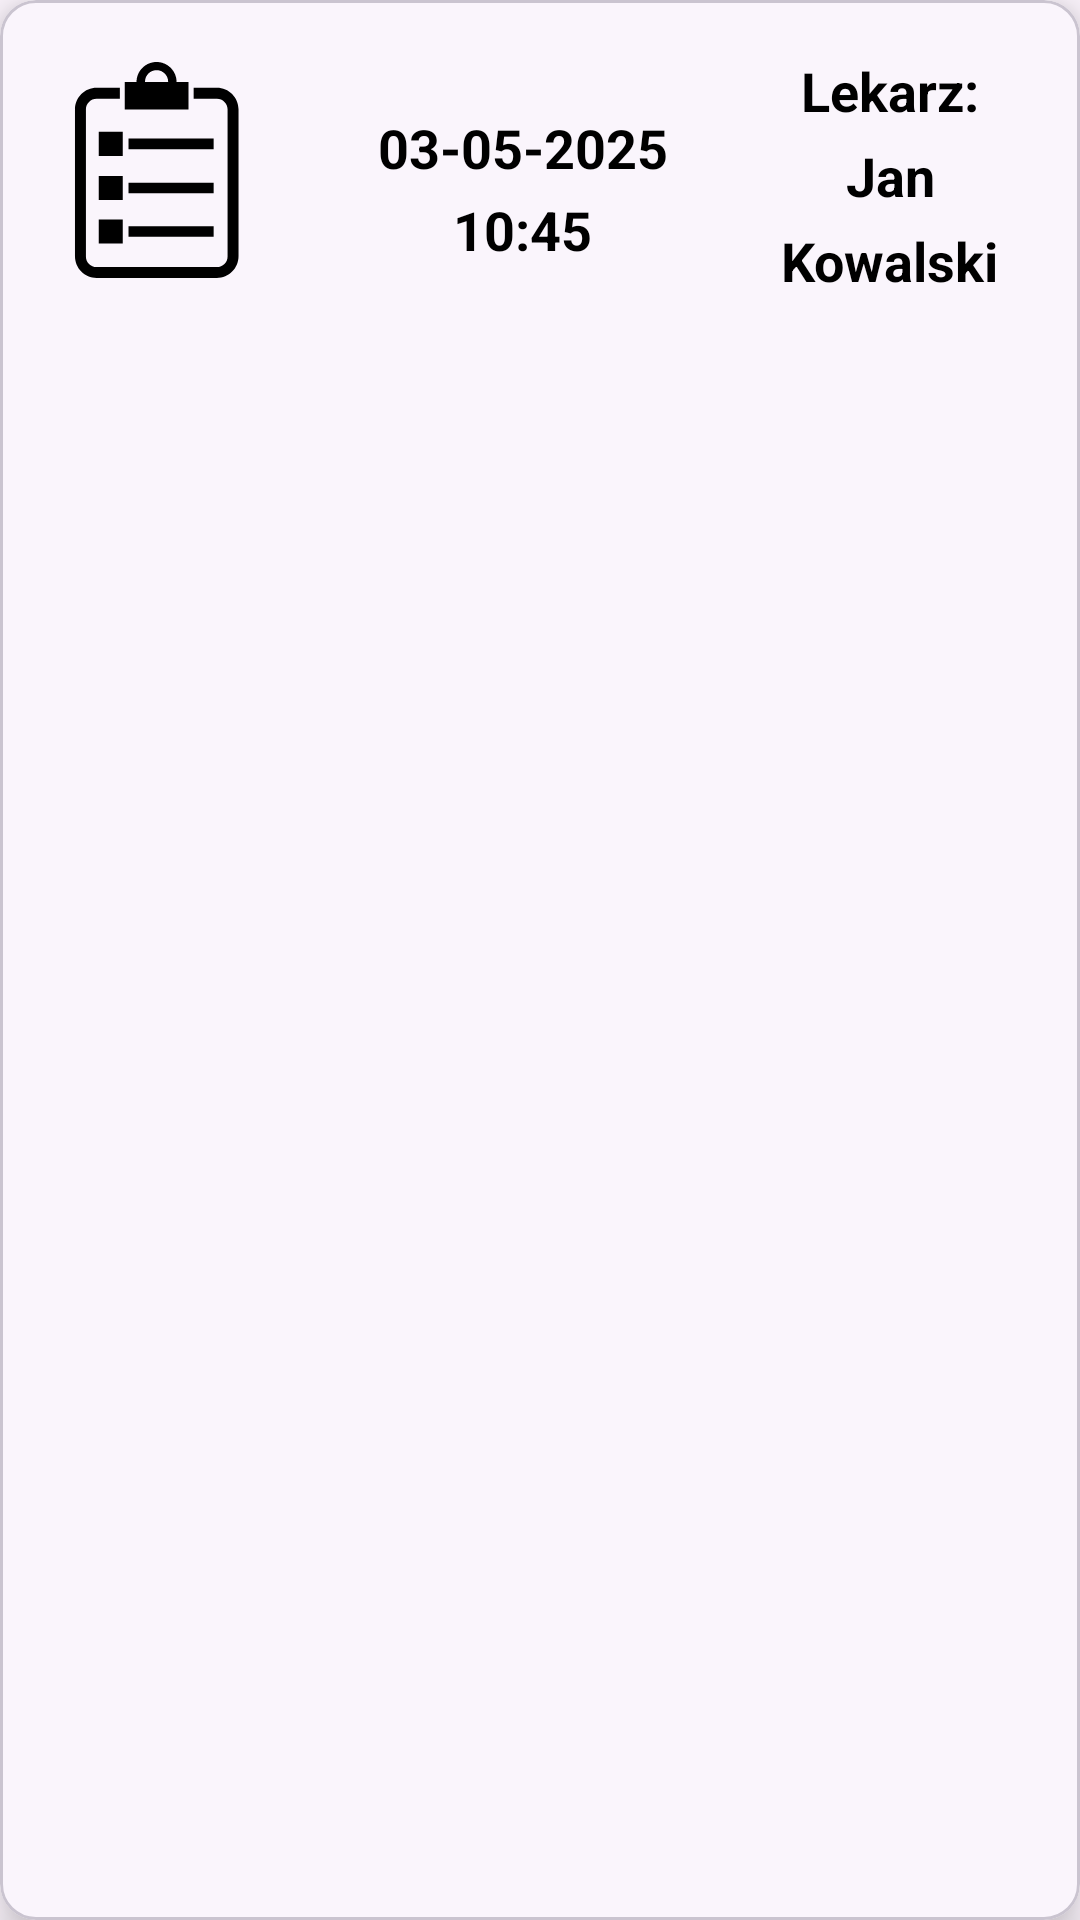

Icon click points for this 1080px x 1920px phone screenshot, format (x=x, y=y):
prescription: (x=157, y=170)
